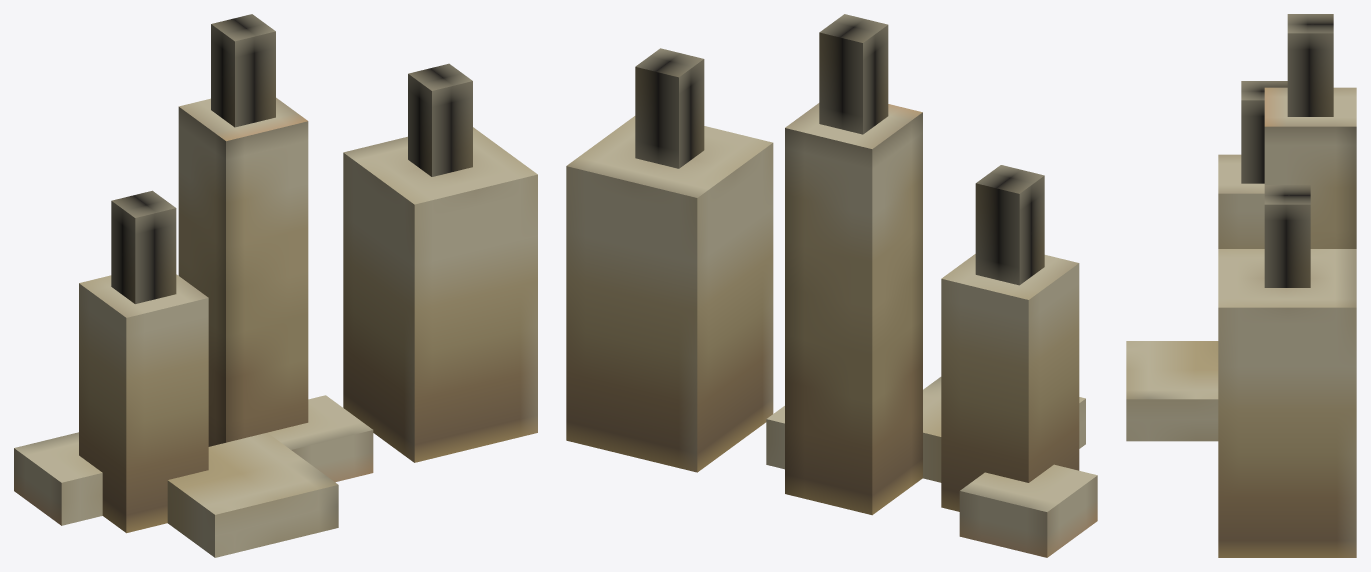
The model's file is candle_arrangement_02.fbx.
The picture shows the model from 3 angles, left to right: view 1: azimuth 30°, elevation 25°; view 2: azimuth 150°, elevation 25°; view 3: azimuth 270°, elevation 25°; orthographic projection. The views are drawn at different scales.
Parts seen in each view (by area): view 1: candle_arrangement_02; view 2: candle_arrangement_02; view 3: candle_arrangement_02.
Boxes of the visible parts, box(x1,y1,x2,y2) form: candle_arrangement_02: box(14, 14, 537, 557); candle_arrangement_02: box(566, 14, 1097, 557); candle_arrangement_02: box(1126, 14, 1356, 557).
Size of the model in its own units: 11 by 10 by 5.
